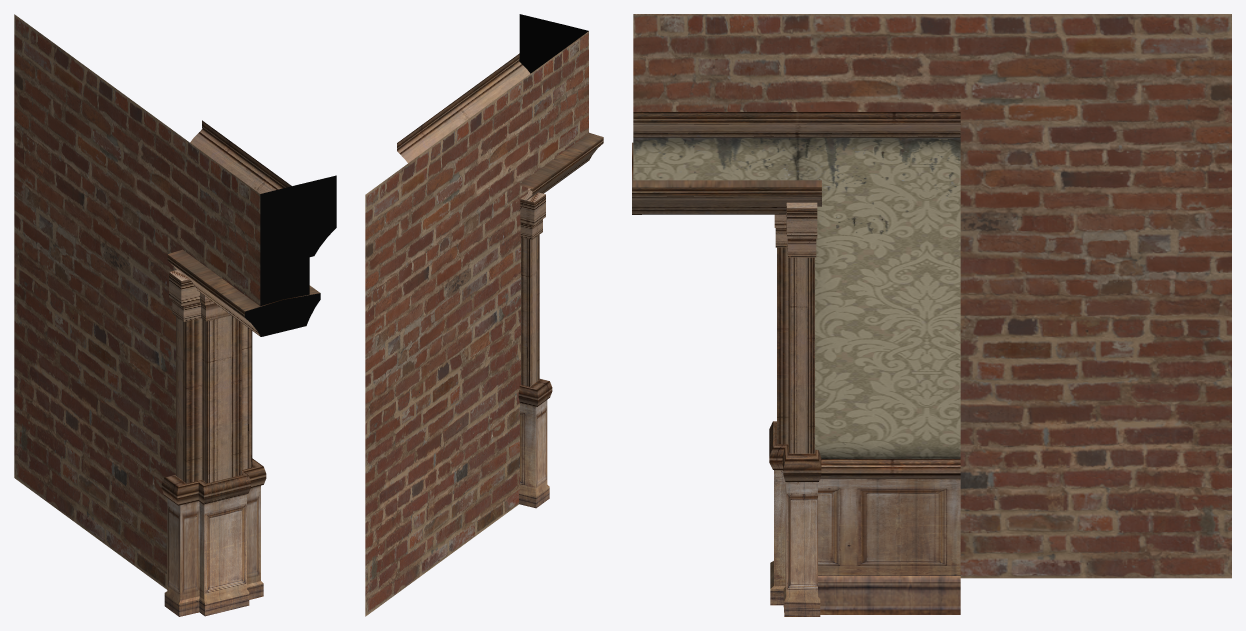
The model's file is Corridor_ToStreet.FBX.
3 views of the same model, side by side, from view 1: azimuth 30°, elevation 25°; view 2: azimuth 150°, elevation 25°; view 3: azimuth 270°, elevation 25° (orthographic). The views are drawn at different scales.
Parts seen in each view (by area): view 1: SideWall002; view 2: SideWall002; view 3: SideWall002.
Boxes of the visible parts, x1,y1,x2,y2 form: SideWall002: [14, 14, 336, 616]; SideWall002: [365, 14, 603, 616]; SideWall002: [632, 14, 1231, 616].
Size of the model in its own units: 20.14 by 91.34 by 87.94.
4 materials, 3 textured.
